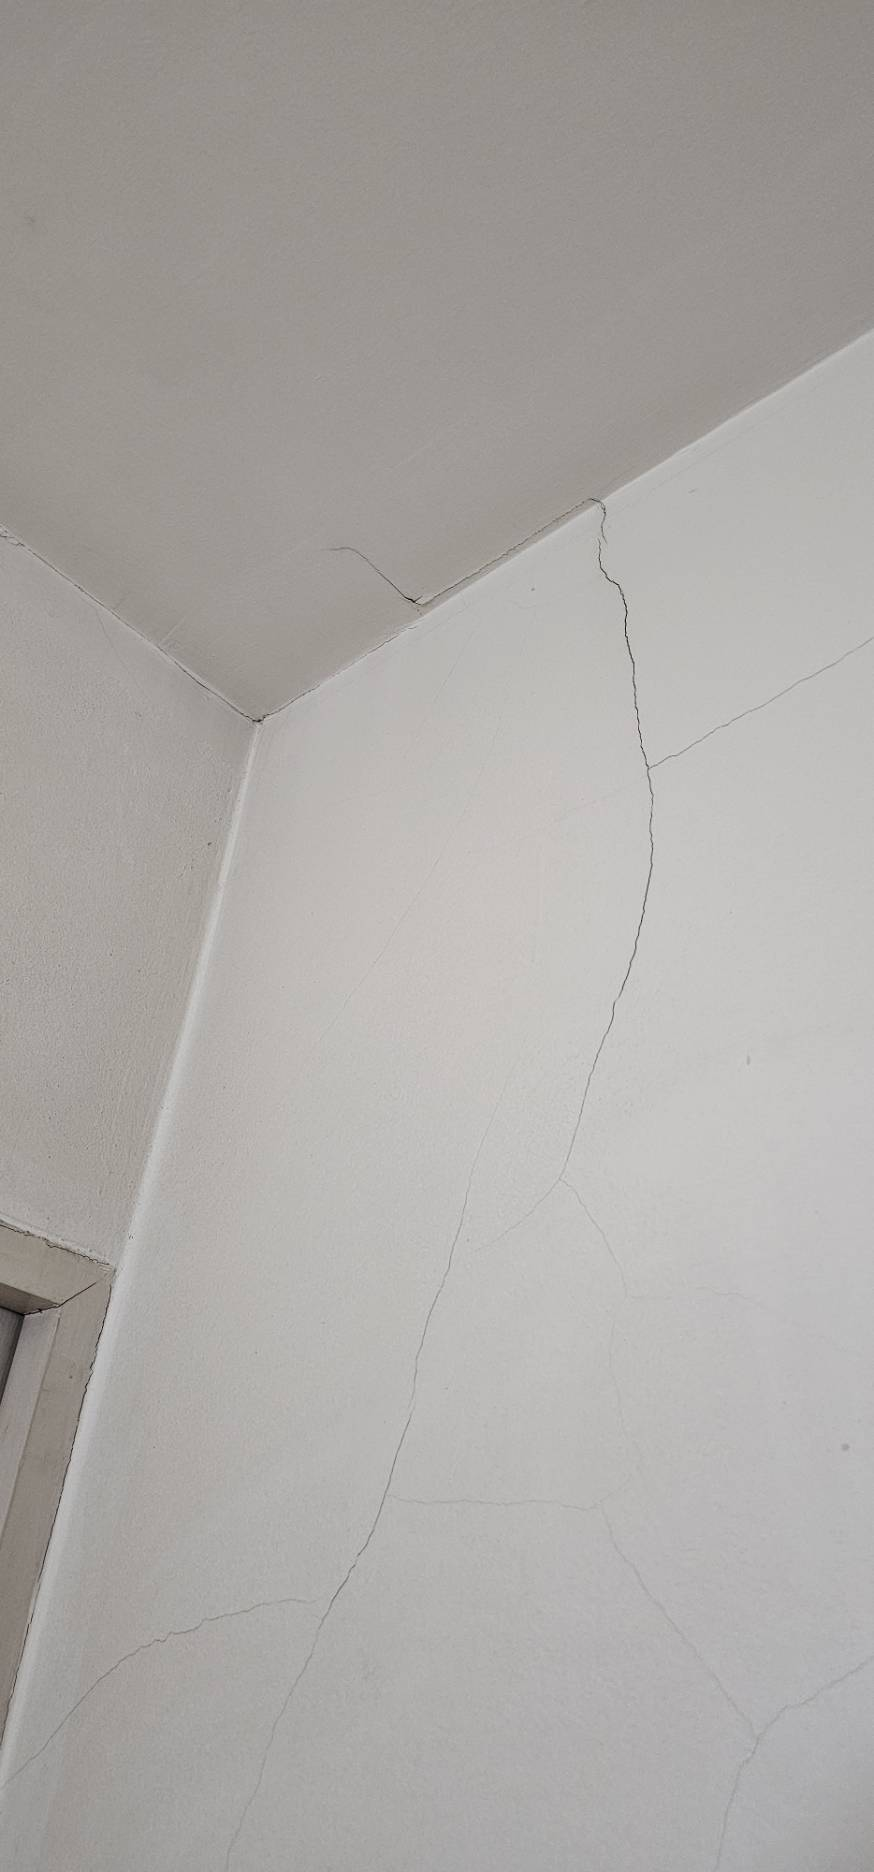Low: (12, 497, 874, 1830)
